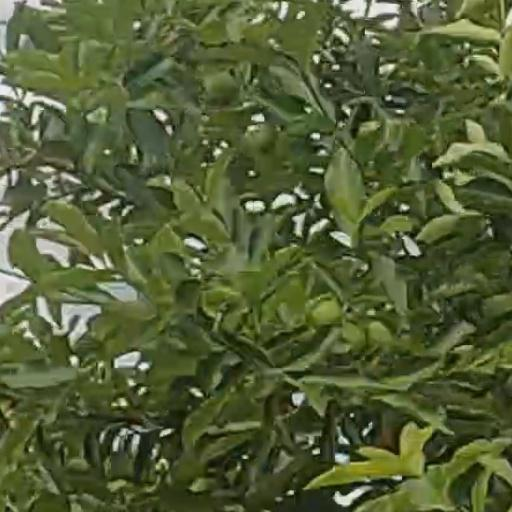acerola_verde: (307, 292, 340, 324), (207, 73, 236, 100)
